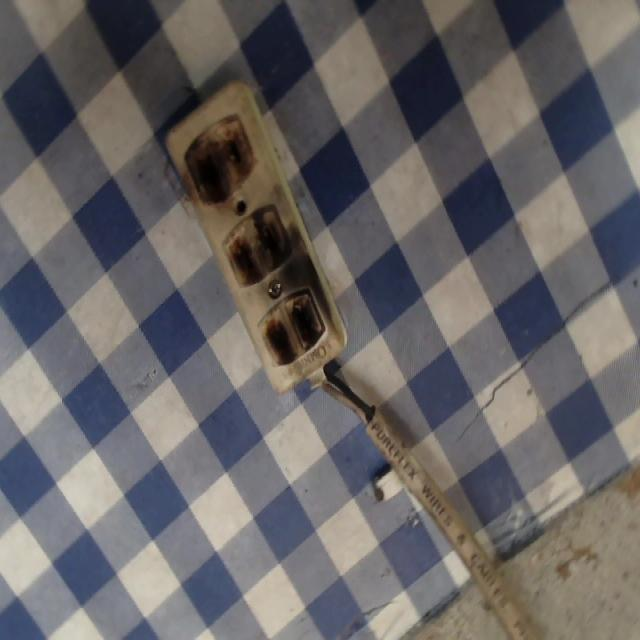-: (247, 292, 330, 367), (217, 212, 295, 288), (183, 123, 256, 201)
